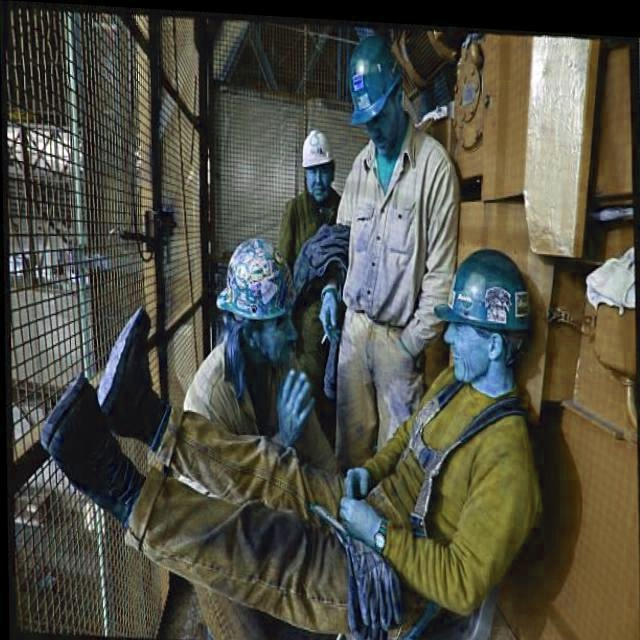safety belt: (350, 376, 526, 571)
